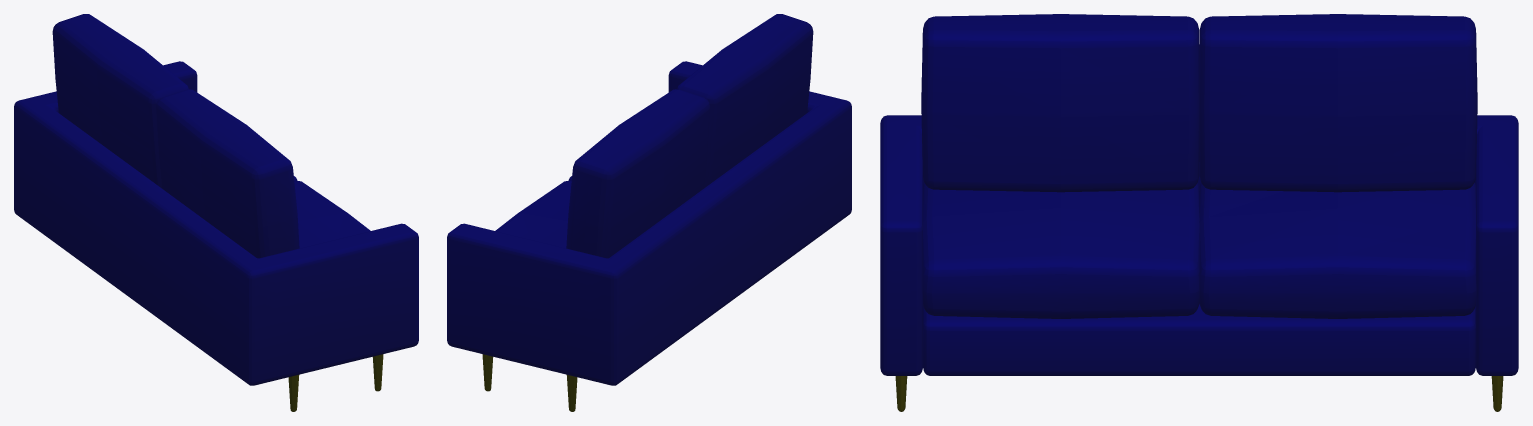
Rendered from sofa.glb.
3 views of the same model, side by side, from view 1: azimuth 30°, elevation 25°; view 2: azimuth 150°, elevation 25°; view 3: azimuth 270°, elevation 25° (orthographic). The views are drawn at different scales.
Visible parts, largest first — view 1: room2_sofa; view 2: room2_sofa; view 3: room2_sofa.
Part boxes in pixels (left/top/right/bottom): room2_sofa: left=14, top=14, right=418, bottom=411; room2_sofa: left=447, top=14, right=851, bottom=411; room2_sofa: left=880, top=14, right=1518, bottom=411.
Size of the model in its own units: 2.35 by 3.19 by 5.63.
Materials: 1 (1 with a texture image).
